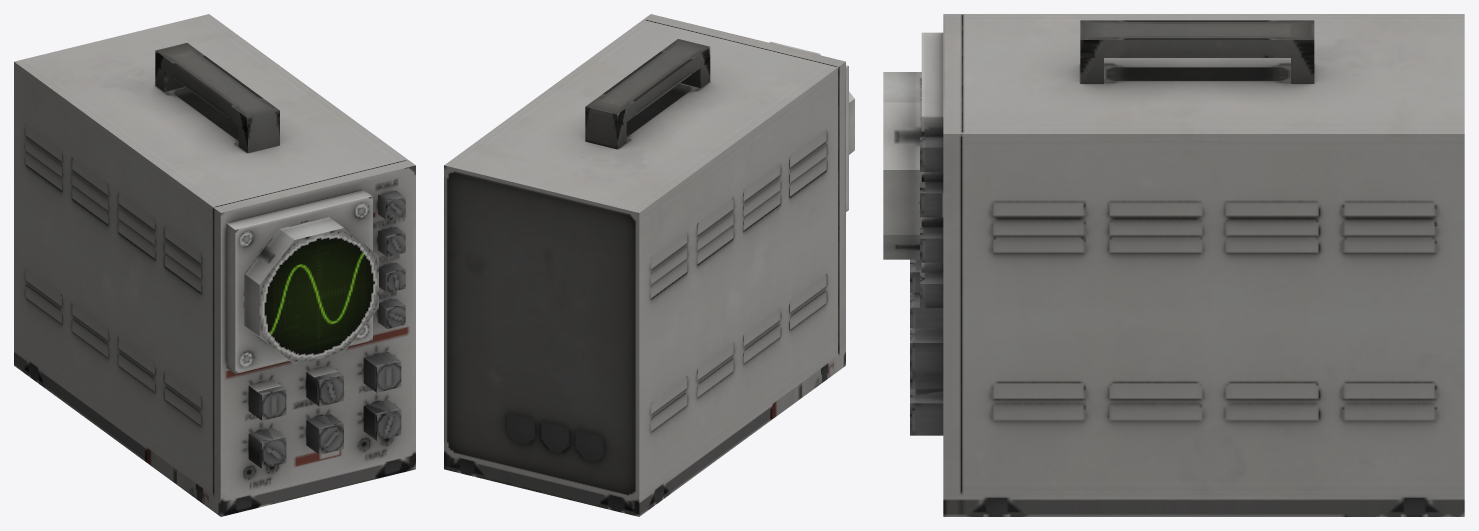
The model's file is SM_Oscilloscope.fbx.
3 renders of one model, left to right at view 1: azimuth 30°, elevation 25°; view 2: azimuth 150°, elevation 25°; view 3: azimuth 270°, elevation 25°, orthographic. The views are drawn at different scales.
Visible parts, largest first — view 1: SM_Oscilloscope; view 2: SM_Oscilloscope; view 3: SM_Oscilloscope.
Part boxes in pixels (box(x1,y1,x2,y2)): SM_Oscilloscope: box(14, 14, 415, 516); SM_Oscilloscope: box(444, 14, 854, 516); SM_Oscilloscope: box(883, 14, 1464, 516).
Size of the model in its own units: 18.09 by 30 by 37.02.
1 material, 1 textured.
